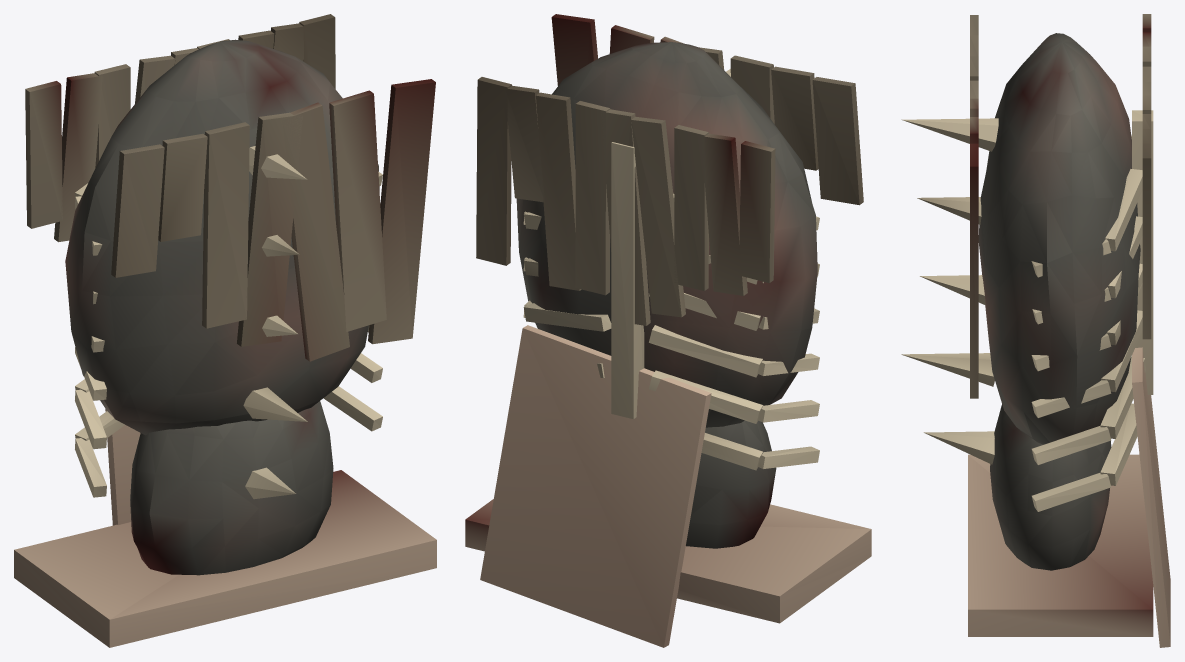
Rendered from ButcherMonsterTorso.glb.
The picture shows the model from 3 angles, left to right: view 1: azimuth 30°, elevation 25°; view 2: azimuth 150°, elevation 25°; view 3: azimuth 270°, elevation 25°; orthographic projection. The views are drawn at different scales.
Parts seen in each view (by area): view 1: ButcherMonsterTorso_monster_skin, ButcherMonsterTorso_shirtButcher, ButcherMonsterTorso_leather, ButcherMonsterTorso_bone; view 2: ButcherMonsterTorso_leather, ButcherMonsterTorso_shirtButcher, ButcherMonsterTorso_monster_skin, ButcherMonsterTorso_bone; view 3: ButcherMonsterTorso_monster_skin, ButcherMonsterTorso_leather, ButcherMonsterTorso_bone, ButcherMonsterTorso_shirtButcher.
Part boxes in pixels (bbox=[...]): ButcherMonsterTorso_monster_skin: bbox=[65, 39, 379, 575]; ButcherMonsterTorso_shirtButcher: bbox=[25, 14, 435, 361]; ButcherMonsterTorso_leather: bbox=[14, 409, 436, 647]; ButcherMonsterTorso_bone: bbox=[75, 146, 382, 499]; ButcherMonsterTorso_leather: bbox=[465, 325, 871, 647]; ButcherMonsterTorso_shirtButcher: bbox=[476, 14, 863, 325]; ButcherMonsterTorso_monster_skin: bbox=[516, 42, 817, 548]; ButcherMonsterTorso_bone: bbox=[523, 69, 819, 470]; ButcherMonsterTorso_monster_skin: bbox=[978, 33, 1140, 570]; ButcherMonsterTorso_leather: bbox=[968, 347, 1170, 647]; ButcherMonsterTorso_bone: bbox=[901, 110, 1153, 511]; ButcherMonsterTorso_shirtButcher: bbox=[970, 14, 1151, 398].
Size of the model in its own units: 1.7 by 2.87 by 1.25.
